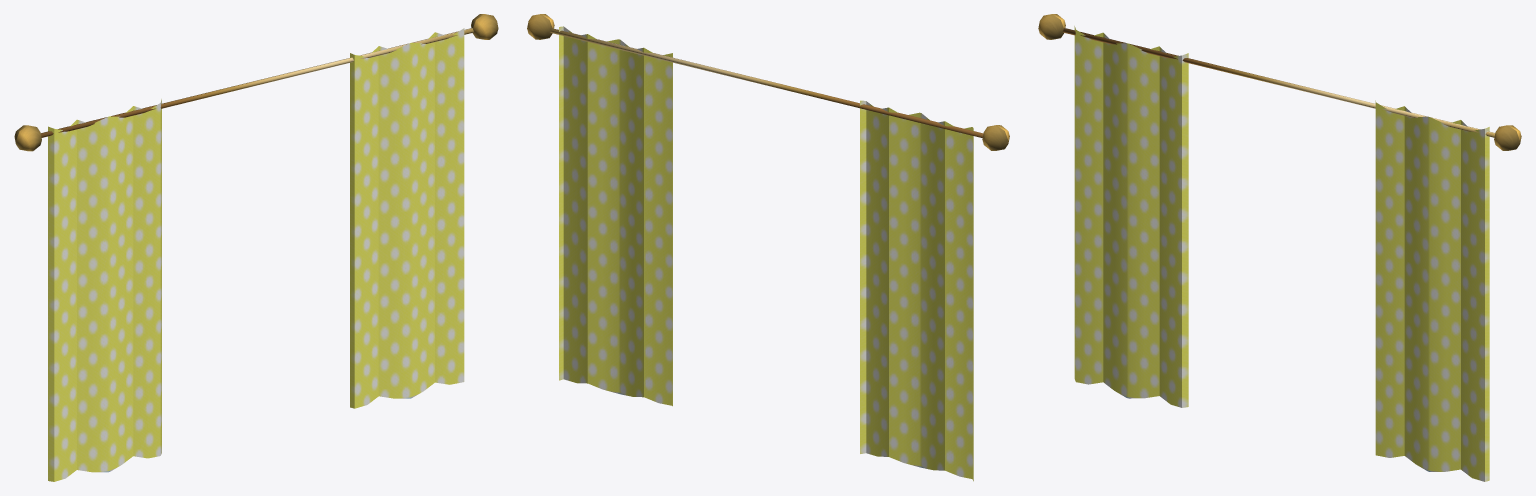
Rendered from Straight_Curtains_03.FBX.
3 views of the same model, side by side, from view 1: azimuth 30°, elevation 25°; view 2: azimuth 150°, elevation 25°; view 3: azimuth 330°, elevation 25° (orthographic).
Parts seen in each view (by area): view 1: Straight_Curtain; view 2: Straight_Curtain; view 3: Straight_Curtain.
Boxes of the visible parts, x1=… form: Straight_Curtain: x1=14, y1=14, x2=498, y2=481; Straight_Curtain: x1=527, y1=14, x2=1009, y2=481; Straight_Curtain: x1=1038, y1=14, x2=1521, y2=481.
Size of the model in its own units: 582 by 421 by 29.96.
